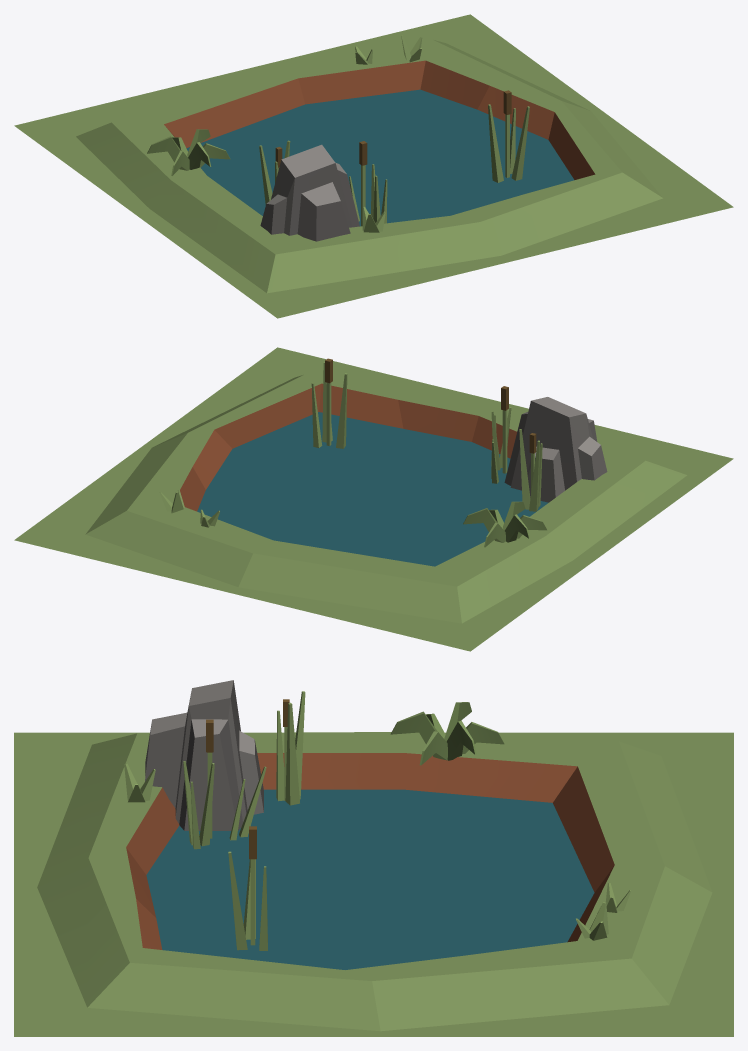
The model's file is SA_Env_Pond_02.gltf.
3 renders of one model, top to bottom at view 1: azimuth 30°, elevation 25°; view 2: azimuth 150°, elevation 25°; view 3: azimuth 270°, elevation 25°, orthographic. The views are drawn at different scales.
Visible parts, largest first — view 1: SA_Env_Pond_02; view 2: SA_Env_Pond_02; view 3: SA_Env_Pond_02.
Boxes of the visible parts, left/top/right/bottom form: SA_Env_Pond_02: left=14, top=14, right=733, bottom=318; SA_Env_Pond_02: left=14, top=347, right=733, bottom=651; SA_Env_Pond_02: left=14, top=680, right=733, bottom=1036.
Size of the model in its own units: 15 by 2.84 by 15.
Materials: 1 (1 with a texture image).
